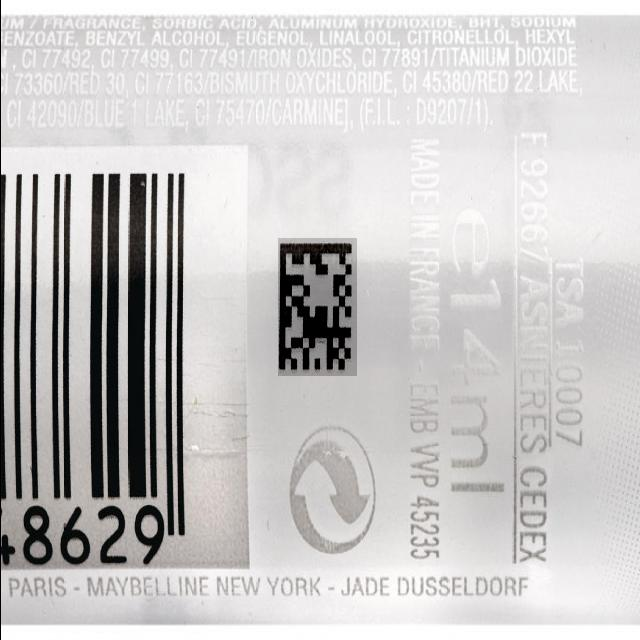DataMatrix: (277, 238, 356, 376)
